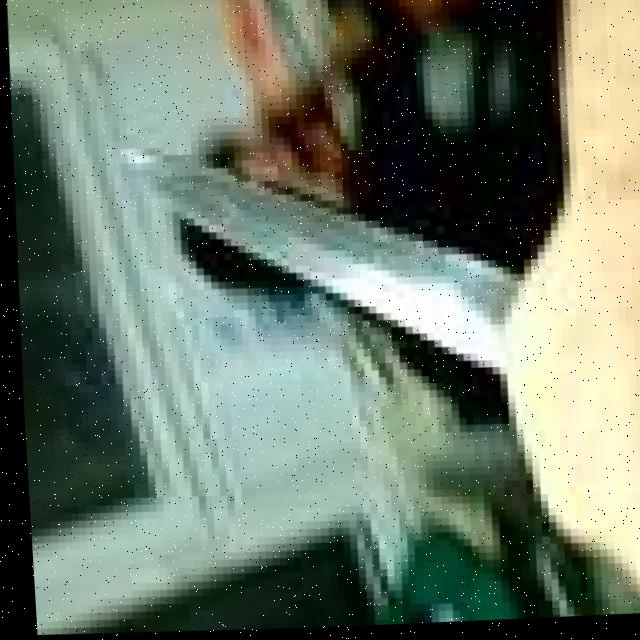knife: (120, 85, 540, 448)
